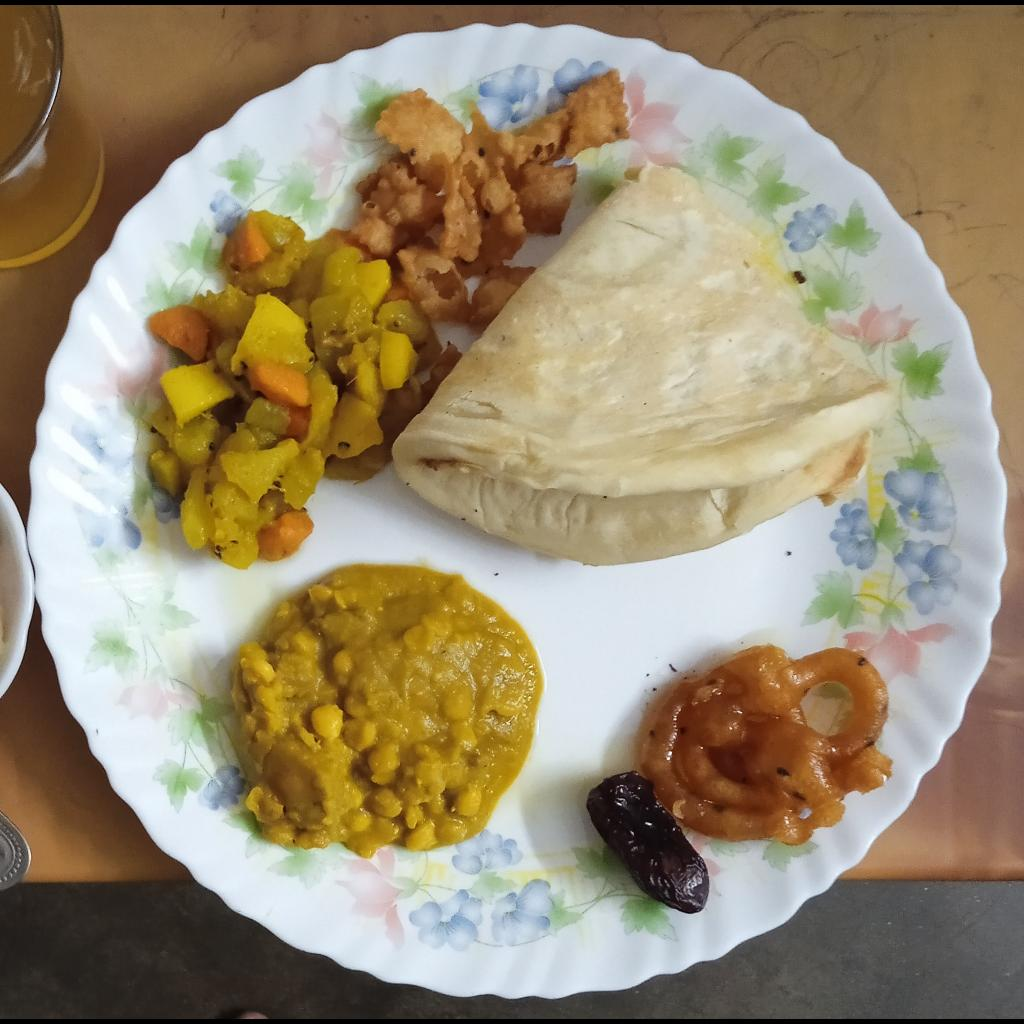chomchom: (354, 68, 628, 325)
daal: (232, 566, 544, 859)
dates: (585, 770, 711, 915)
jilapi: (644, 645, 893, 843)
ruti: (393, 163, 896, 568)
vegetable: (146, 210, 444, 573)
